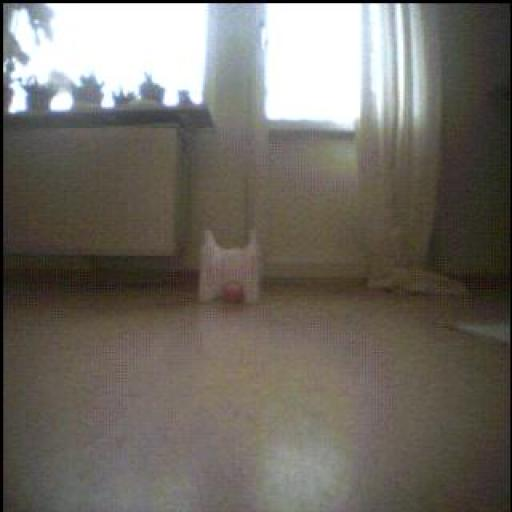Basket: (224, 282, 248, 308)
